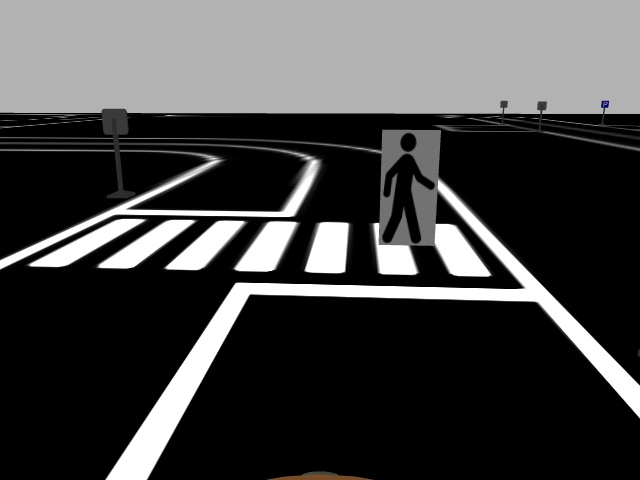parking: (600, 99, 610, 110)
pedestrian: (377, 127, 446, 244)
